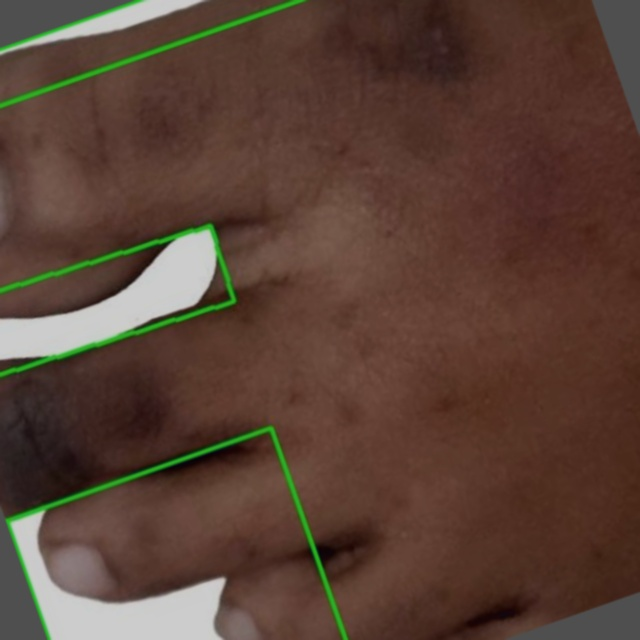Tinea Corporis: (7, 428, 347, 639), (0, 225, 234, 374)
